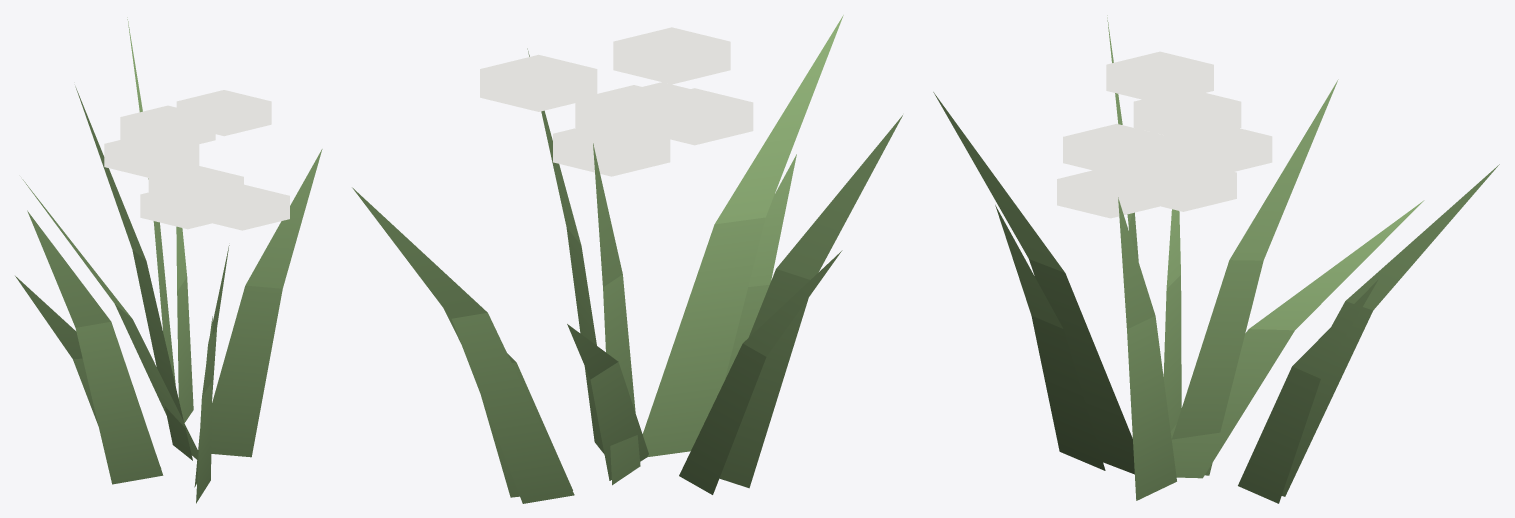
The model's file is flower_white.glb.
3 renders of one model, left to right at view 1: azimuth 30°, elevation 25°; view 2: azimuth 150°, elevation 25°; view 3: azimuth 270°, elevation 25°, orthographic. The views are drawn at different scales.
Visible parts, largest first — view 1: flower_white; view 2: flower_white; view 3: flower_white.
Part boxes in pixels (box(x1,y1,x2,y2)): flower_white: box(15, 17, 322, 503); flower_white: box(352, 15, 902, 503); flower_white: box(933, 15, 1499, 503).
Bounding box in the file's own units: 0.3161 × 0.3402 × 0.4573.
